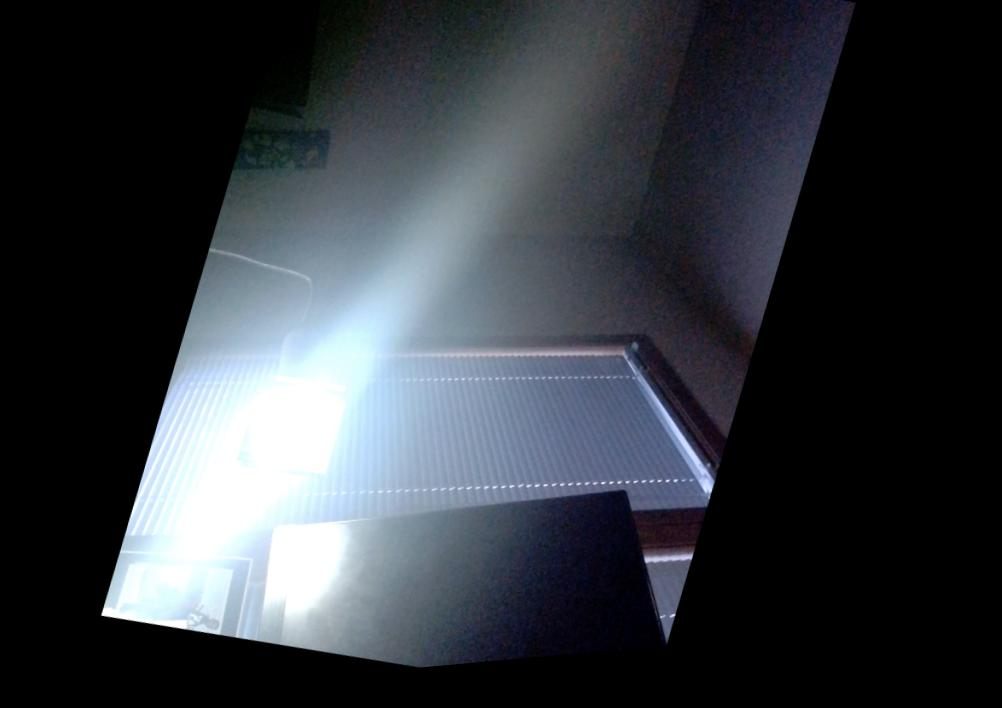TubeLight: (242, 375, 352, 488)
